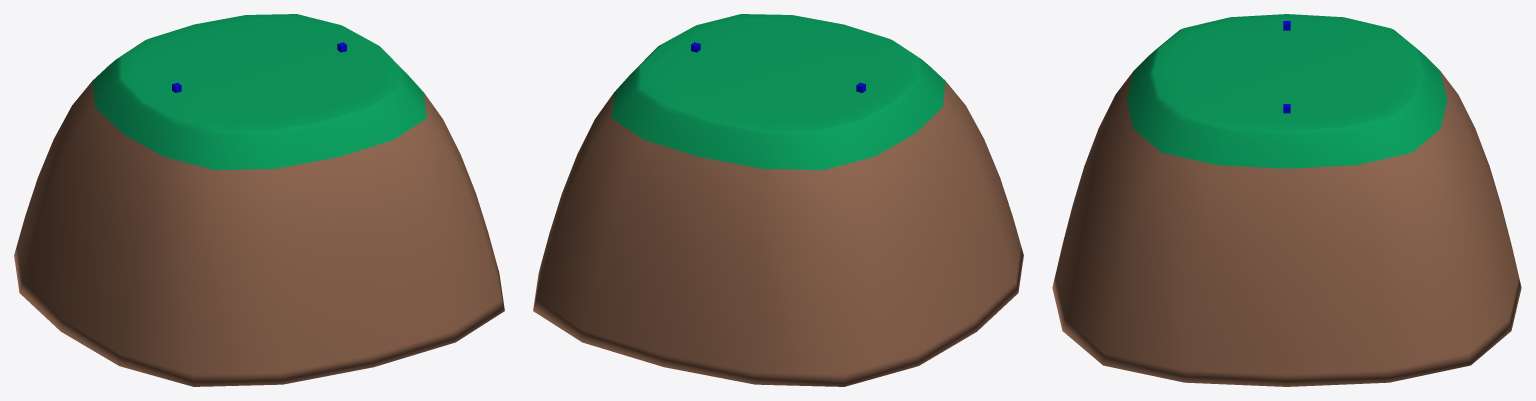
Rendered from TeeBox.fbx.
The picture shows the model from 3 angles, left to right: view 1: azimuth 30°, elevation 25°; view 2: azimuth 150°, elevation 25°; view 3: azimuth 270°, elevation 25°; orthographic projection. The views are drawn at different scales.
Visible parts, largest first — view 1: polySurface1; view 2: polySurface1; view 3: polySurface1.
Boxes of the visible parts, x1,y1,x2,y2 form: polySurface1: (14,14,504,386); polySurface1: (533,14,1023,386); polySurface1: (1052,14,1521,386).
Size of the model in its own units: 19.19 by 10.17 by 19.19.
